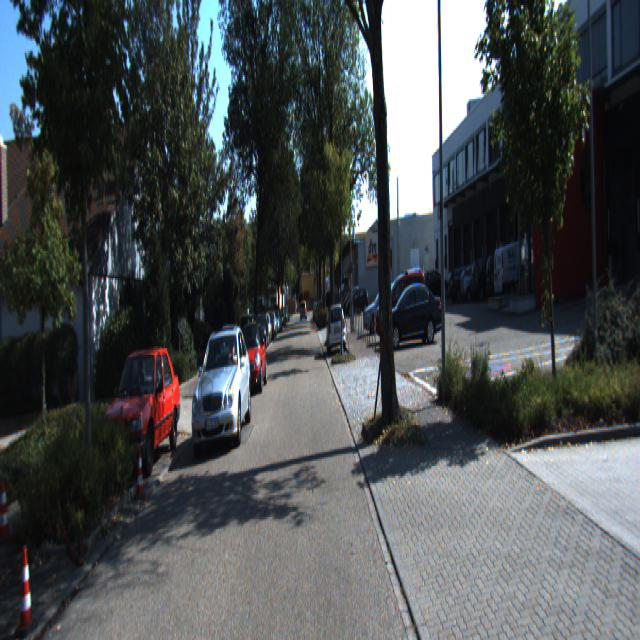Car: (96, 334, 181, 480), (187, 324, 254, 456), (379, 280, 444, 346), (376, 266, 431, 343), (492, 241, 550, 309), (234, 319, 268, 396), (326, 300, 346, 357)
